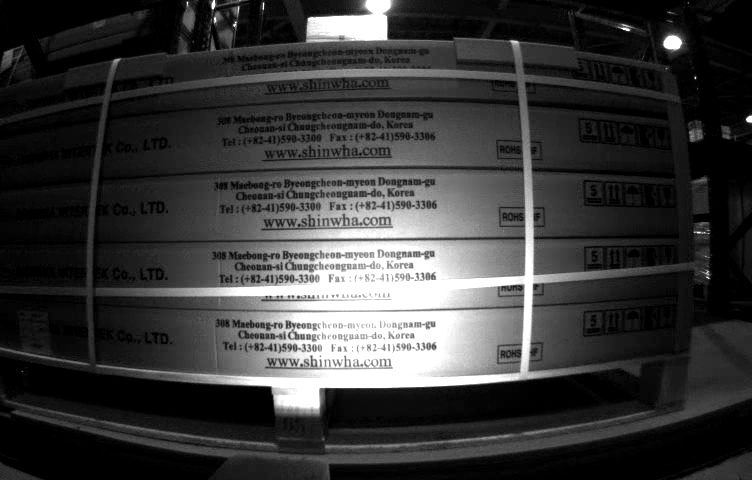True Barcode: (15, 309, 52, 358)
